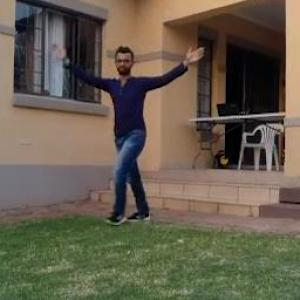takeoff: (50, 42, 211, 225)
